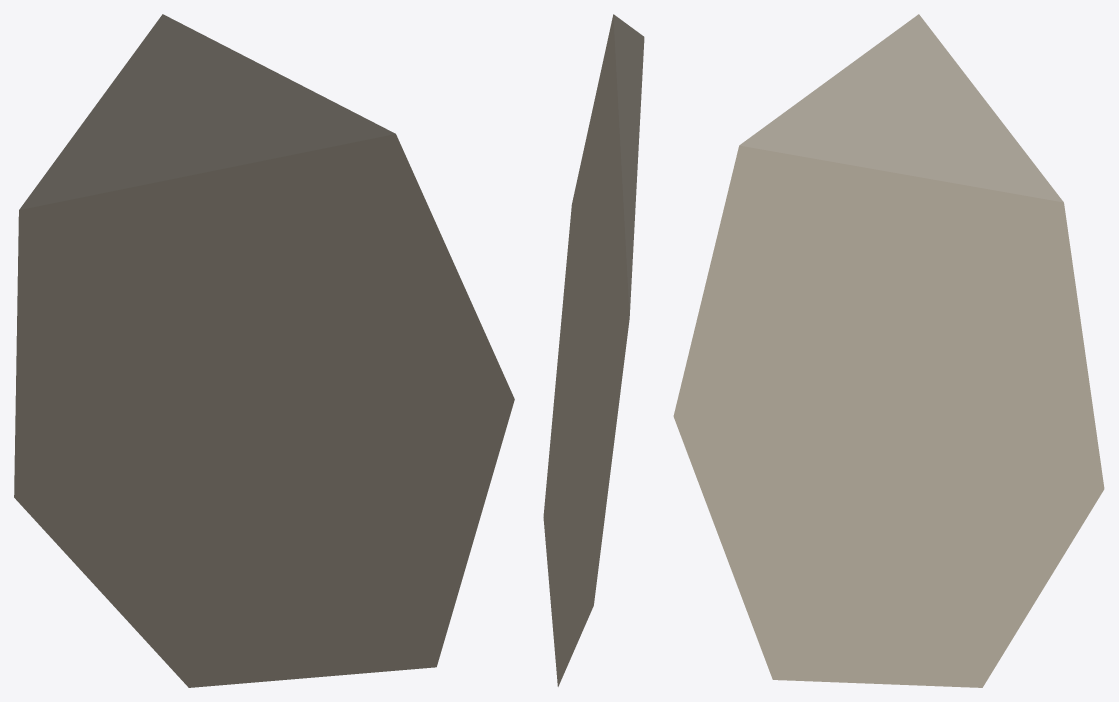
The model's file is SM_MS3_Feed_Eco_07_2.fbx.
The picture shows the model from 3 angles, left to right: view 1: azimuth 30°, elevation 25°; view 2: azimuth 150°, elevation 25°; view 3: azimuth 270°, elevation 25°; orthographic projection. The views are drawn at different scales.
Visible parts, largest first — view 1: SM_MS3_Feed_Eco_07_2; view 2: SM_MS3_Feed_Eco_07_2; view 3: SM_MS3_Feed_Eco_07_2.
Part boxes in pixels (bbox=[...]): SM_MS3_Feed_Eco_07_2: bbox=[14, 14, 514, 687]; SM_MS3_Feed_Eco_07_2: bbox=[543, 14, 644, 686]; SM_MS3_Feed_Eco_07_2: bbox=[673, 14, 1104, 687].
Bounding box in the file's own units: 0.9216 × 1.36 × 2.25.
